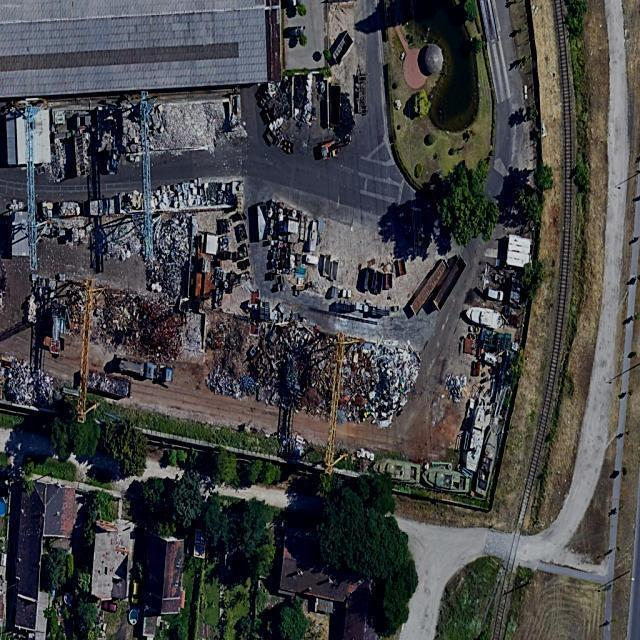dump_site: (337, 333, 424, 436), (255, 320, 338, 422), (99, 287, 189, 365), (152, 212, 191, 299), (4, 355, 59, 410), (92, 215, 147, 266), (150, 176, 213, 212), (205, 316, 246, 363), (204, 359, 246, 403), (43, 216, 90, 248), (87, 372, 132, 399), (441, 369, 471, 406), (120, 190, 143, 213), (59, 200, 84, 218), (242, 374, 257, 396)
